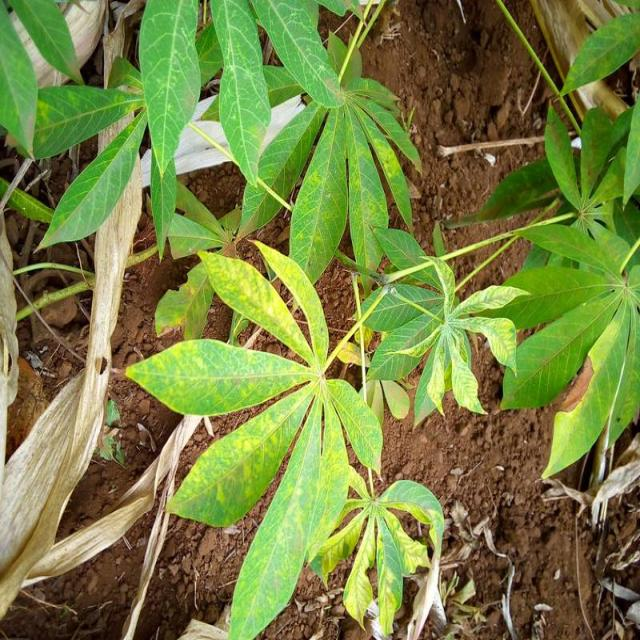cassava leaf: (124, 237, 386, 638)
